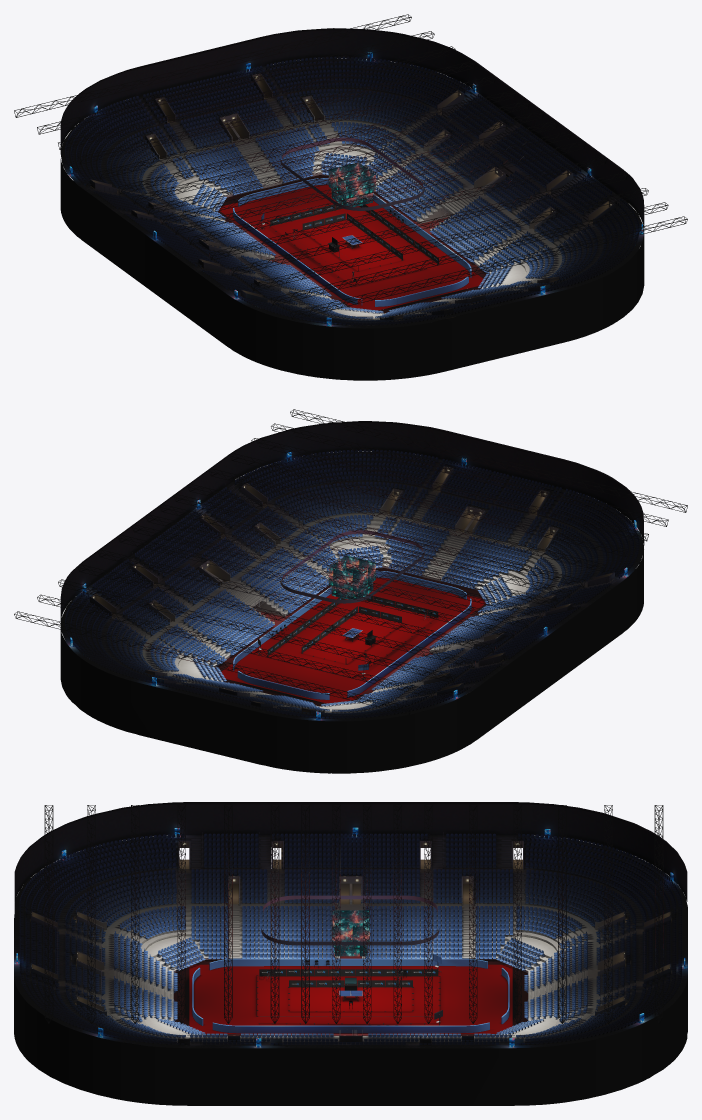
The model's file is TableTennis_Stadium.glb.
The picture shows the model from 3 angles, top to bottom: view 1: azimuth 30°, elevation 25°; view 2: azimuth 150°, elevation 25°; view 3: azimuth 270°, elevation 25°; orthographic projection. The views are drawn at different scales.
Parts seen in each view (by area): view 1: ArenaStepsBase, ArenaSteps2, Ceiling, Floor_Main, ArenaSteps, CeilingGrill006, CeilingGrill002, CeilingGrill010, CeilingGrill015, Seats_Audi_18, Seats_Audi_19, Seats_Audi_08 (+32 smaller); view 2: ArenaStepsBase, ArenaSteps, Ceiling, Floor_Main, ArenaSteps2, Seats_Audi_6, CeilingGrill006, CeilingGrill002, CeilingGrill015, CeilingGrill010, Seats_Audi_08, Seats_Audi_11 (+31 smaller); view 3: ArenaStepsBase, Ceiling, ArenaSteps2, ArenaSteps, Floor_Main, Seats_Audi_22, CeilingGrill002, CeilingGrill015, CeilingGrill010, Seats_Audi_14, CeilingGrill006, Seats_Audi_3 (+34 smaller).
Boxes of the visible parts, box(x1,y1,x2,y2) form: ArenaStepsBase: box(60, 159, 644, 380); ArenaSteps2: box(60, 58, 548, 256); Ceiling: box(60, 28, 644, 232); Floor_Main: box(218, 184, 485, 311); ArenaSteps: box(155, 145, 643, 328); CeilingGrill006: box(98, 76, 543, 214); CeilingGrill002: box(160, 121, 606, 260); CeilingGrill010: box(230, 172, 687, 319); CeilingGrill015: box(14, 14, 475, 164); Seats_Audi_18: box(239, 88, 472, 163); Seats_Audi_19: box(266, 56, 469, 108); Seats_Audi_08: box(448, 144, 612, 243); ArenaStepsBase: box(60, 552, 643, 773); ArenaSteps: box(155, 451, 643, 649); Ceiling: box(60, 421, 644, 620); Floor_Main: box(219, 577, 486, 704); ArenaSteps2: box(60, 538, 549, 721); Seats_Audi_6: box(234, 449, 438, 524); CeilingGrill006: box(98, 514, 543, 653); CeilingGrill002: box(160, 468, 606, 607); CeilingGrill015: box(14, 564, 475, 714); CeilingGrill010: box(230, 409, 687, 556); Seats_Audi_08: box(164, 487, 298, 605); Seats_Audi_11: box(404, 459, 523, 542); ArenaStepsBase: box(14, 914, 687, 1105); Ceiling: box(14, 802, 687, 901); ArenaSteps2: box(351, 835, 687, 1048); ArenaSteps: box(14, 835, 350, 1048); Floor_Main: box(189, 964, 512, 1033); Seats_Audi_22: box(433, 869, 636, 965); CeilingGrill002: box(224, 805, 340, 1023); CeilingGrill015: box(513, 805, 663, 1023); CeilingGrill010: box(44, 805, 185, 1023); Seats_Audi_14: box(191, 869, 419, 903); CeilingGrill006: box(363, 805, 477, 1023); Seats_Audi_3: box(63, 833, 258, 884).
Size of the model in its own units: 59.4 by 12.2 by 79.4.
72 materials, 71 textured.
